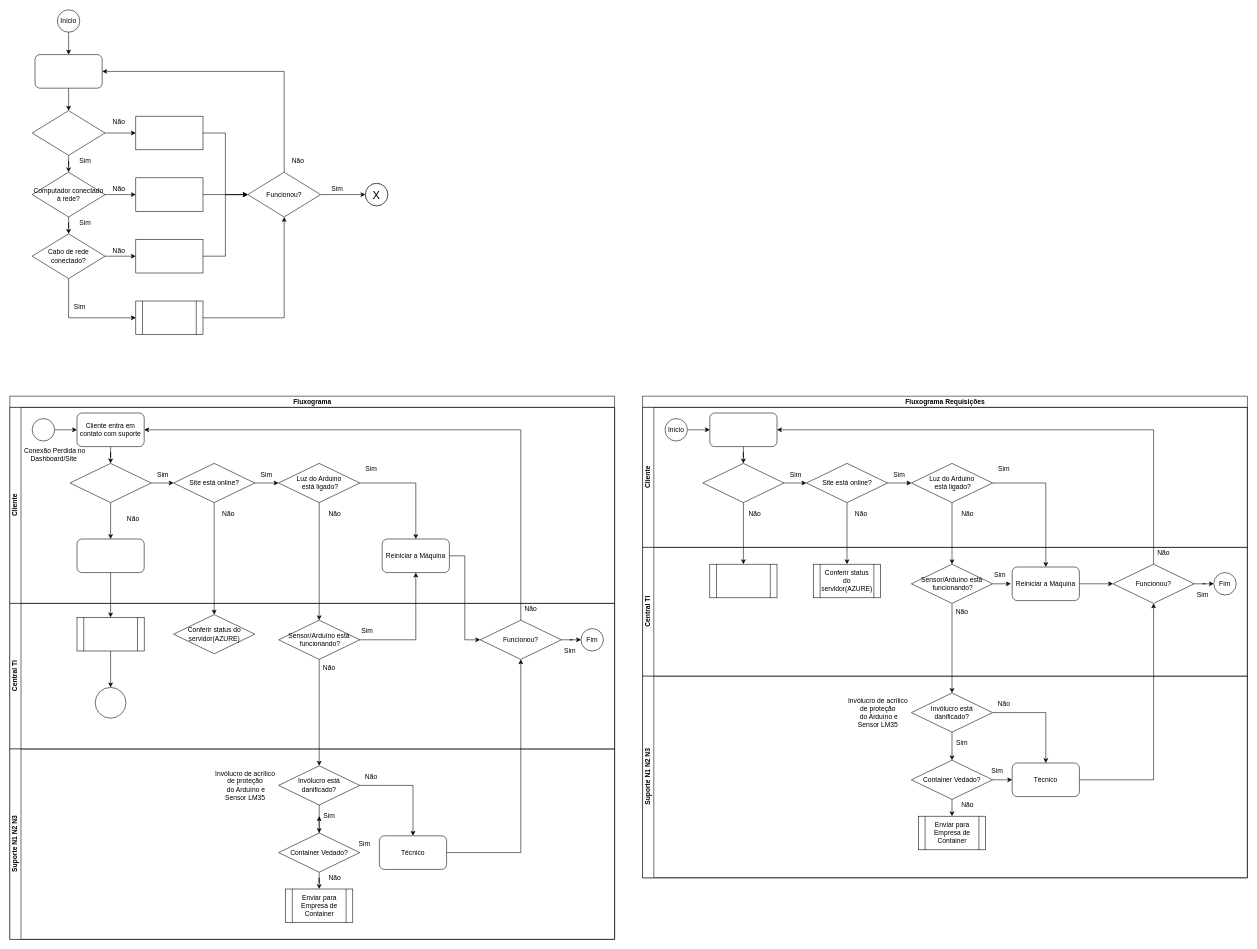
Image size: 1257x949. Some labels were removed from this diagram. The shapes that lost their labels are listed below. From the top down, each one's centre as x and y in pixels, then its label:
At (68,71): "Conexão Perdida".
At (68,132): "Modem ligado?".
At (169,133): "Ligar Modem".
At (169,194): "Executar solução de problemas do WINDOWS".
At (169,256): "Conectar cabo".
At (169,317): "Técnico de Internet".
At (743,429): "Criação de Relatório para o Excel".
At (110,483): "Conexaõ internet?".
At (743,483): "Criar relatório em Excel".
At (110,555): "Ligar para outra operadora".
At (743,581): "Ligar para Operadora".
At (110,634): "Gerenciamento de INcidente".
At (110,702): "Fim de chamada".
